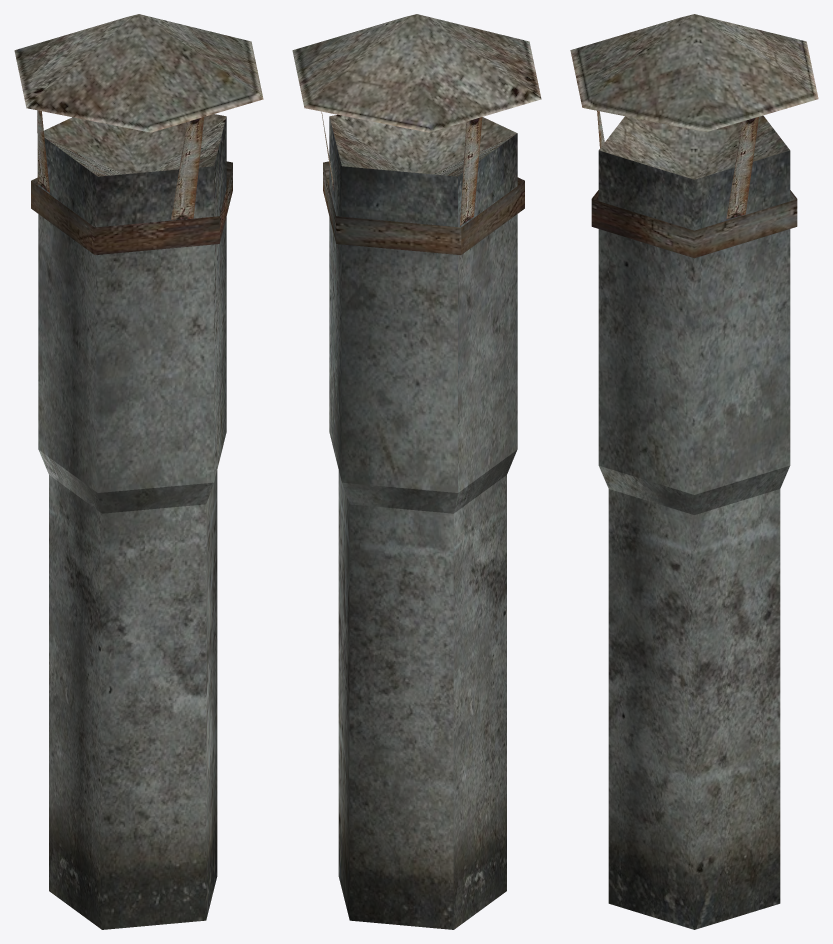
File: Pipes_set_v1_vent_1 (7).glb
3 views of the same model, side by side, from view 1: azimuth 30°, elevation 25°; view 2: azimuth 150°, elevation 25°; view 3: azimuth 270°, elevation 25° (orthographic).
Parts seen in each view (by area): view 1: Pipes_set_v1_vent_1 (7); view 2: Pipes_set_v1_vent_1 (7); view 3: Pipes_set_v1_vent_1 (7).
Part boxes in pixels (box(x1,y1,x2,y2)): Pipes_set_v1_vent_1 (7): box(14, 14, 263, 929); Pipes_set_v1_vent_1 (7): box(292, 14, 541, 929); Pipes_set_v1_vent_1 (7): box(570, 14, 818, 929).
Bounding box in the file's own units: 0.6599 × 2.34 × 0.6004.
Materials: 1 (1 with a texture image).
